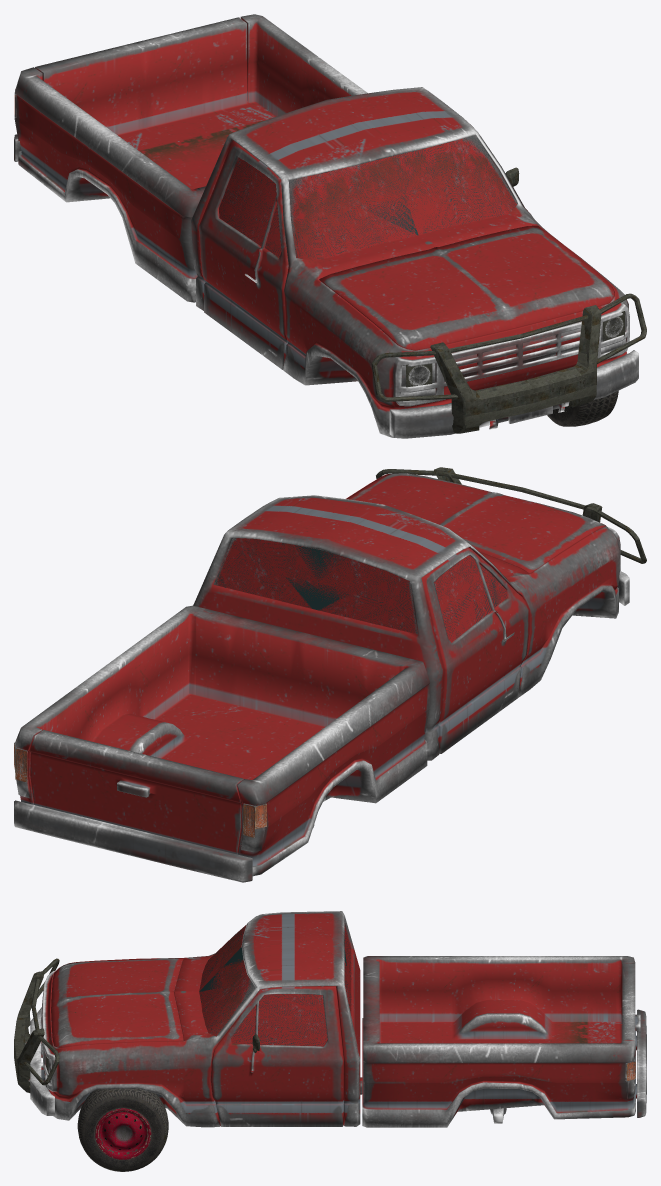
The model's file is Pick-UP-1.fbx.
The picture shows the model from 3 angles, top to bottom: view 1: azimuth 30°, elevation 25°; view 2: azimuth 150°, elevation 25°; view 3: azimuth 270°, elevation 25°; orthographic projection. The views are drawn at different scales.
Parts seen in each view (by area): view 1: Group1, Tire; view 2: Group1; view 3: Group1, Tire.
Part boxes in pixels (x1,y1,x2,y2): Group1: (14,14,646,438); Tire: (547,391,618,426); Group1: (14,467,646,882); Group1: (14,911,646,1127); Tire: (77,1088,168,1171).
Size of the model in its own units: 795 by 666 by 2024.
